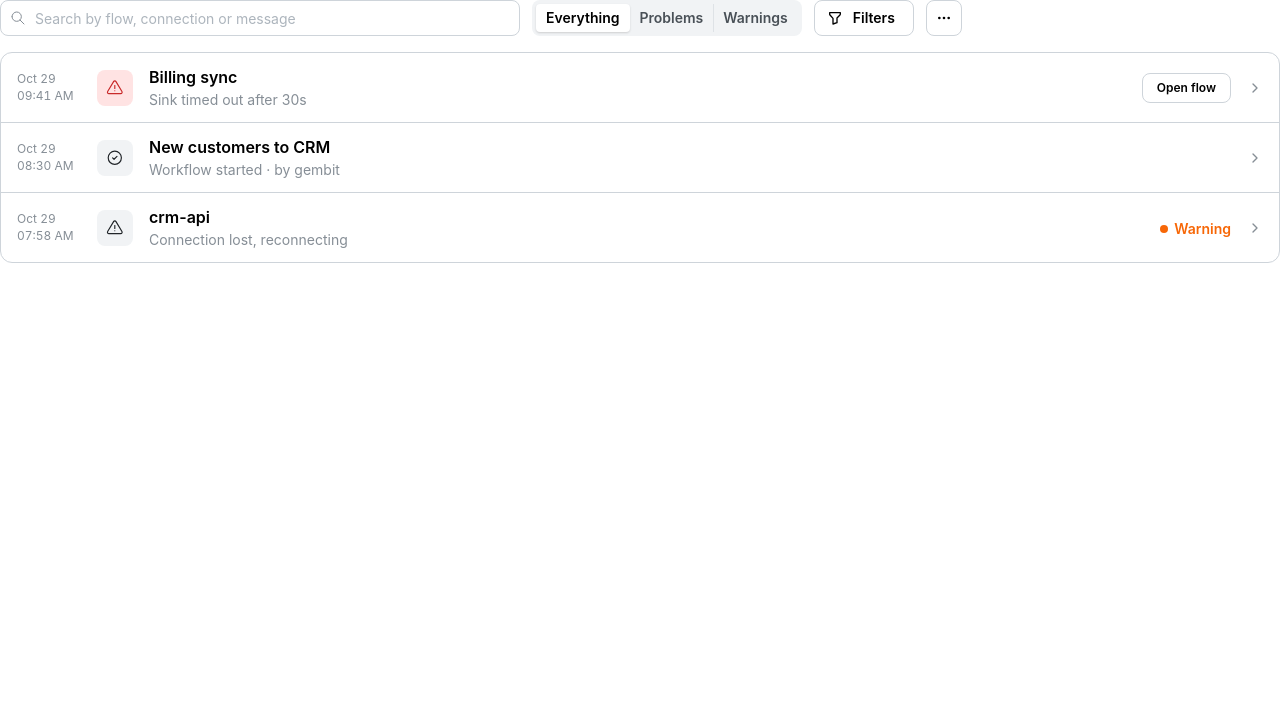
Test case: the activity feed › opens the whole entry, payload included, from its row
What coordinates should you click on to do the following:
click the text "Workflow started · by gembit"
I would click on:
 (244, 170)
Its box is [149, 160, 340, 180].
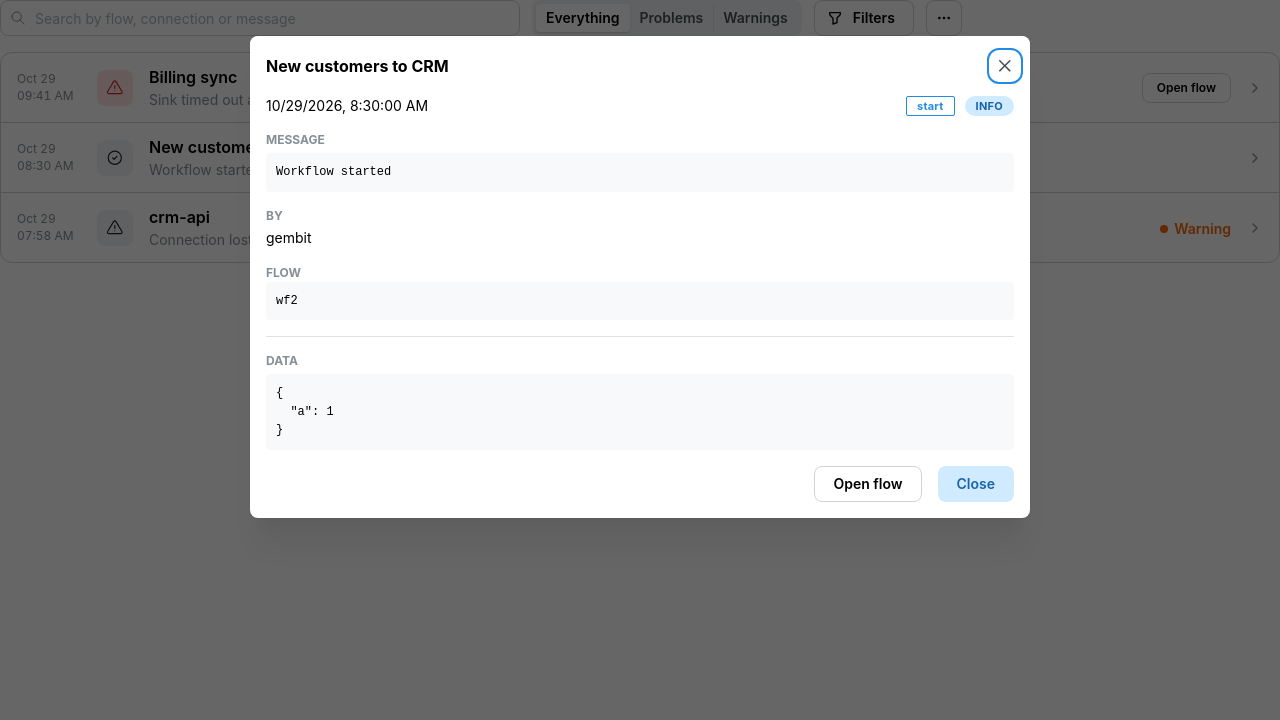
Check: the text "Workflow started" is shown, box [266, 153, 1014, 192]
Check: the text "{ \"a\": 1 }" is shown, box [266, 374, 1014, 450]
Check: the text "gembit" is shown, box [266, 230, 312, 246]
